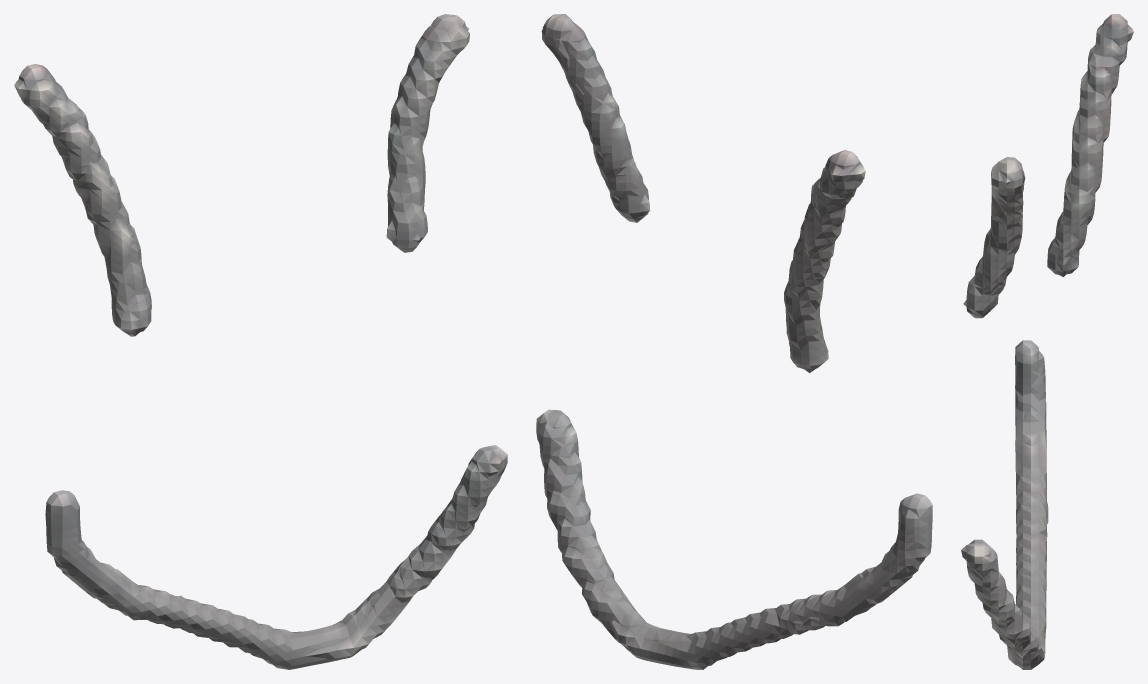
The picture shows the model from 3 angles, left to right: view 1: azimuth 30°, elevation 25°; view 2: azimuth 150°, elevation 25°; view 3: azimuth 270°, elevation 25°; orthographic projection. The views are drawn at different scales.
Visible parts, largest first — view 1: world; view 2: world; view 3: world.
Part boxes in pixels (x1,y1,x2,y2): world: (14,14,507,669); world: (536,14,932,669); world: (961,14,1133,669).
Bounding box in the file's own units: 0.7393 × 1.03 × 0.2939.
1 material, 1 textured.
